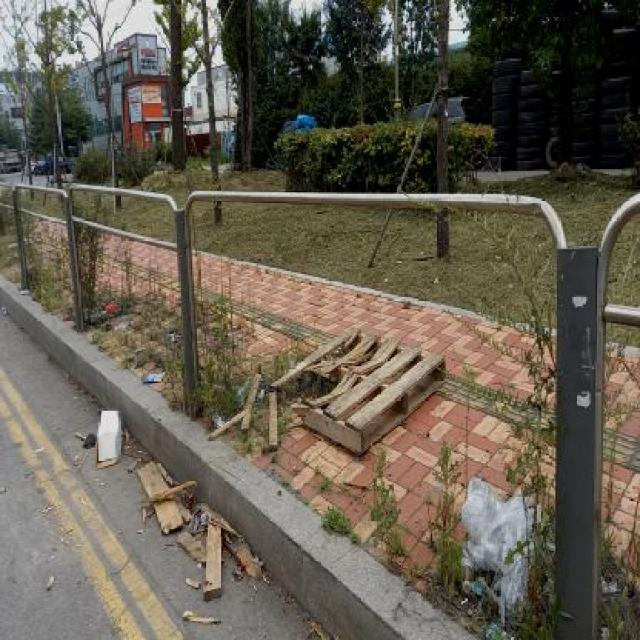bump: (184, 415, 450, 640)
fence: (167, 180, 640, 636), (0, 156, 209, 407)
